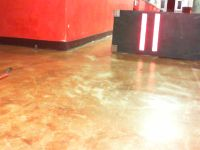switch: (138, 13, 147, 51), (152, 14, 160, 52)
